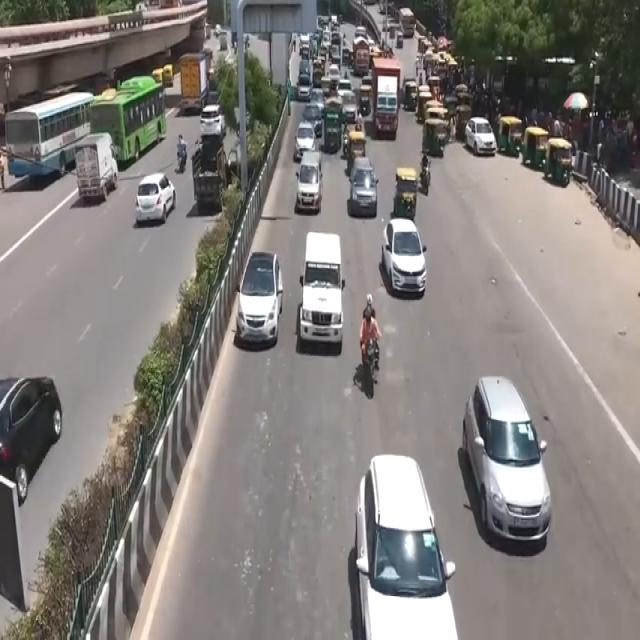BUS: (5, 93, 93, 192), (96, 75, 168, 167), (372, 63, 398, 141)
MOTORCYCLE: (359, 336, 382, 399), (419, 161, 432, 199)
TRUCK: (176, 53, 209, 115)
